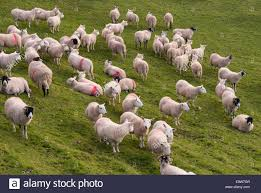sheep: (94, 116, 134, 153), (3, 96, 34, 140), (120, 111, 155, 148), (68, 46, 95, 80), (160, 95, 189, 125), (29, 61, 53, 97), (175, 78, 206, 105), (217, 66, 246, 91), (1, 74, 30, 97), (11, 6, 40, 28), (222, 89, 240, 116), (82, 28, 102, 52), (104, 78, 121, 106), (133, 52, 149, 81), (134, 28, 153, 52), (209, 51, 233, 70), (231, 114, 255, 133), (103, 60, 126, 79), (105, 19, 130, 36), (85, 101, 106, 121), (47, 11, 64, 32), (125, 8, 140, 28), (174, 27, 196, 39), (191, 54, 202, 78), (146, 11, 158, 32), (164, 12, 174, 30), (109, 7, 120, 23)
